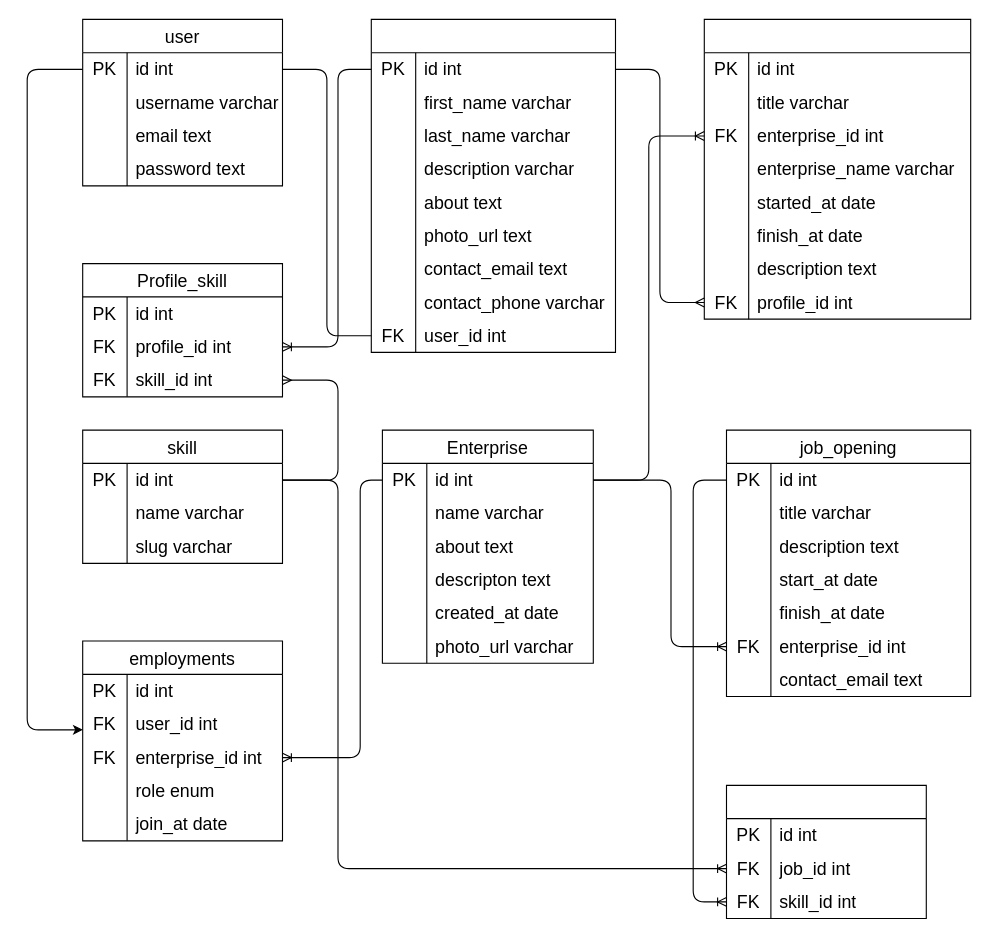
Some shapes in this 990 by 938 pixel diagram are drawn without their labels. Here are the shapes that lost their labels. From the top down, the box of each, then its label:
(370, 18, 615, 352): Profile
(703, 18, 971, 319): Experience
(725, 784, 926, 919): job_opening_skills
